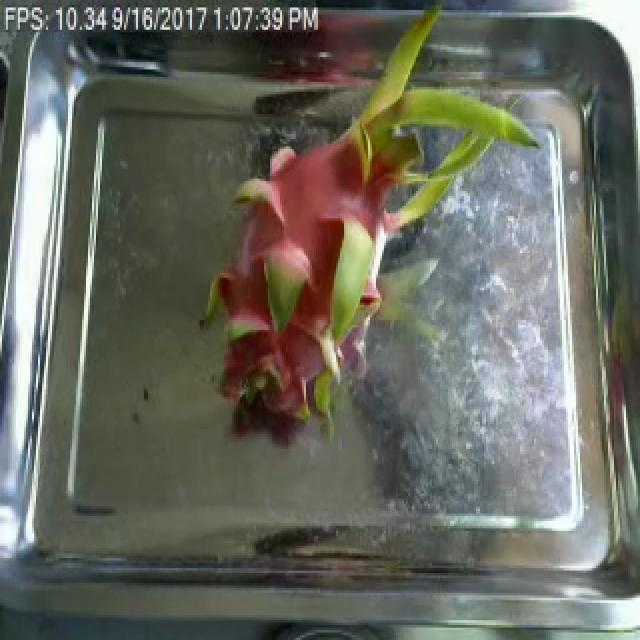fruit: (176, 47, 502, 464)
